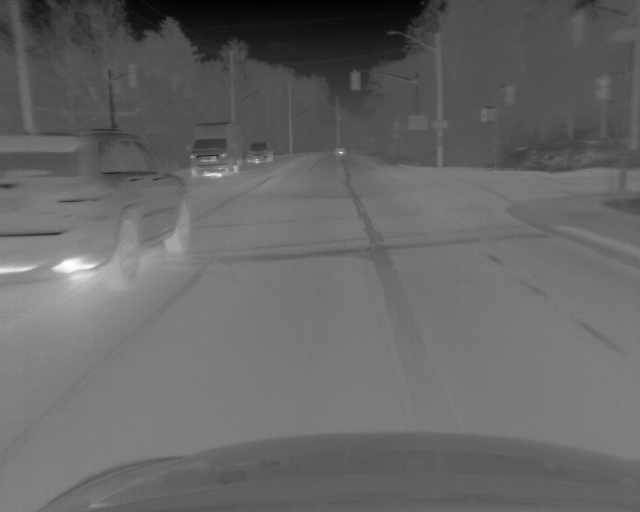car: (1, 129, 192, 288), (189, 122, 241, 179), (243, 141, 274, 165), (334, 146, 348, 159)
